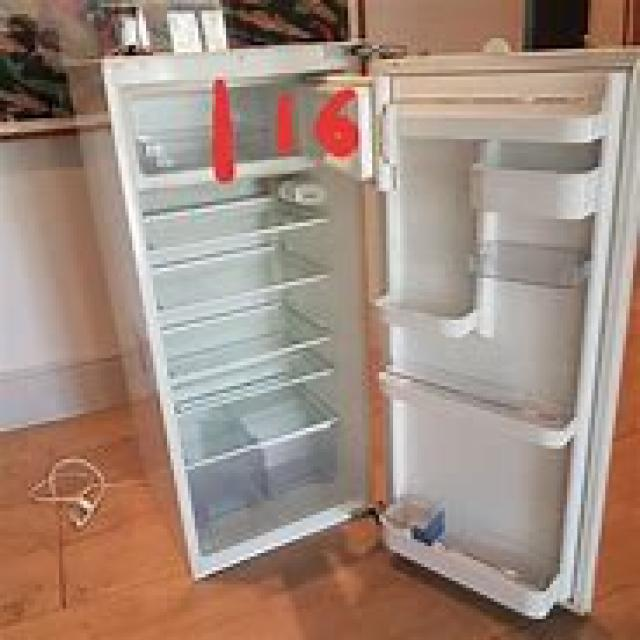fridge: (94, 38, 636, 619)
